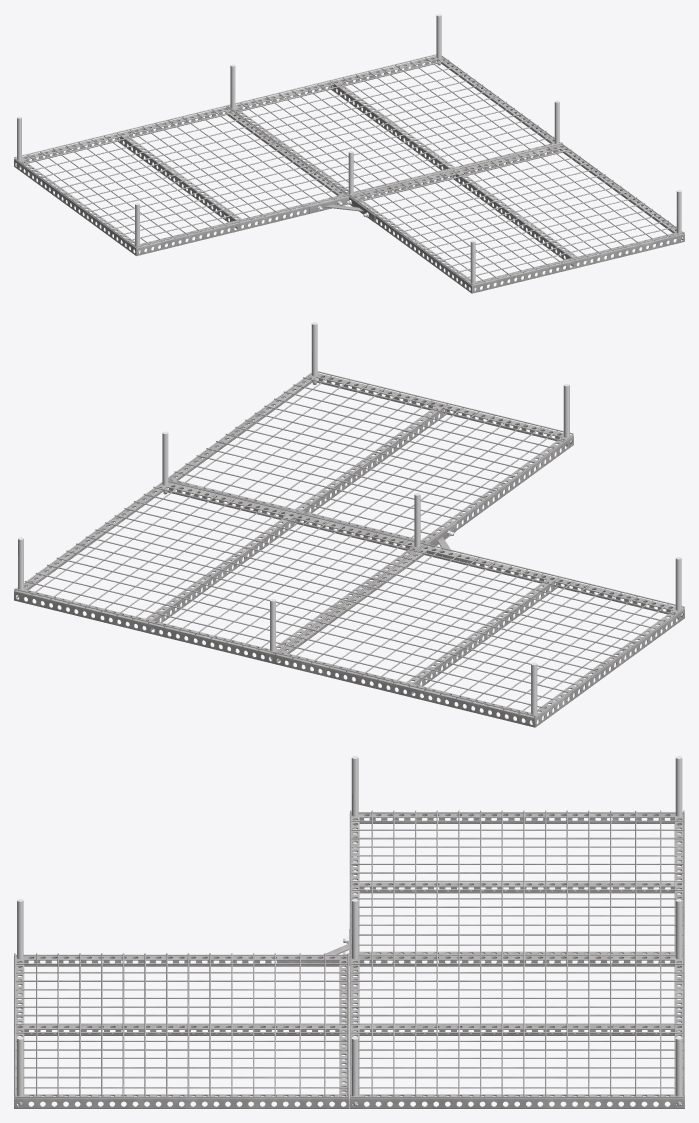
Rendered from PTL6.glb.
3 renders of one model, top to bottom at view 1: azimuth 30°, elevation 25°; view 2: azimuth 150°, elevation 25°; view 3: azimuth 270°, elevation 25°, orthographic. The views are drawn at different scales.
Visible parts, largest first — view 1: Shelf.001, Plane010.001; view 2: Shelf.001, Plane010.001; view 3: Shelf.001, Plane010.001.
Part boxes in pixels (x1,y1,x2,y2): Shelf.001: [14, 54, 684, 293]; Plane010.001: [17, 14, 681, 291]; Shelf.001: [14, 371, 684, 727]; Plane010.001: [18, 322, 681, 724]; Shelf.001: [14, 810, 684, 1108]; Plane010.001: [17, 756, 682, 1106].
Bounding box in the file's own units: 62.24 × 6.97 × 61.88.
2 materials, 2 textured.
